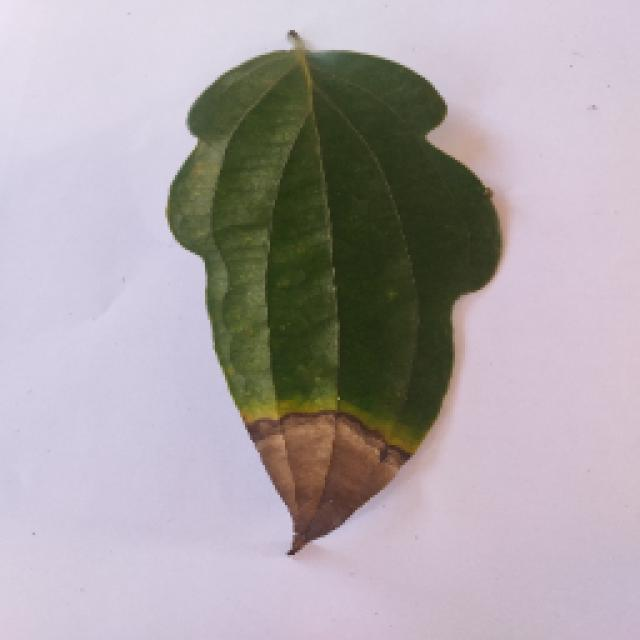footrot: (165, 38, 503, 558)
